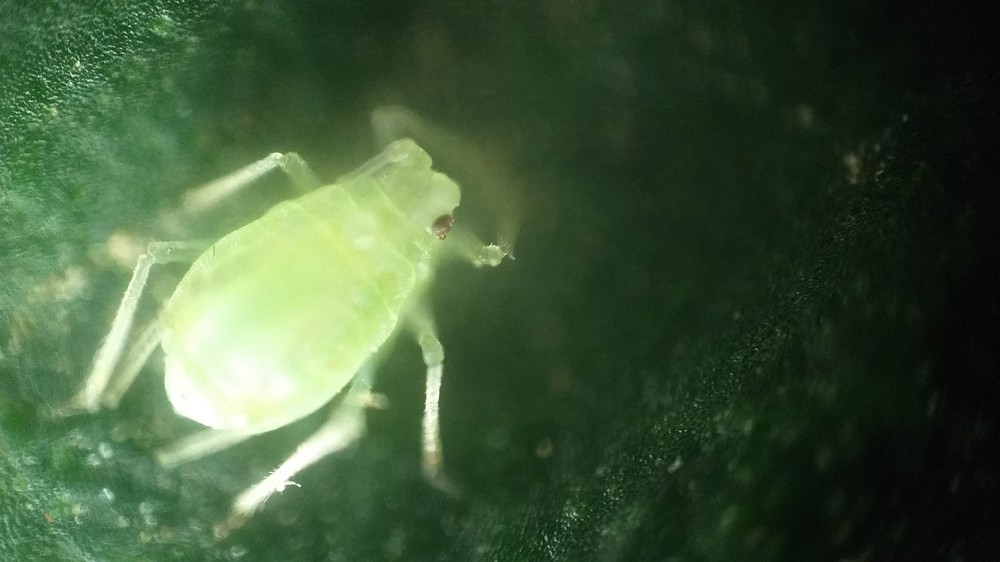Pulgon: (57, 105, 542, 531)
